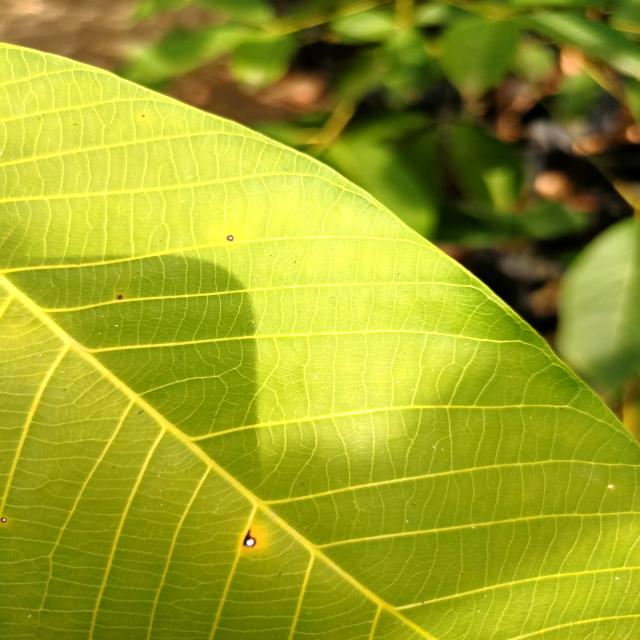Colletotrichum: (244, 537, 256, 547), (226, 235, 234, 241), (118, 295, 123, 299)
